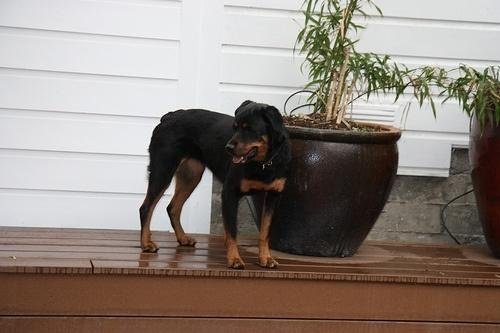dog: (140, 101, 290, 266)
